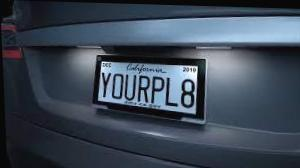License_Plate: (100, 61, 197, 116)
